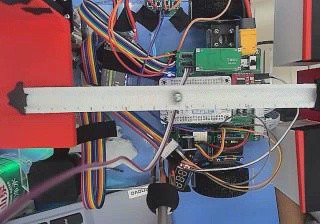ironball: (171, 91, 181, 102)
